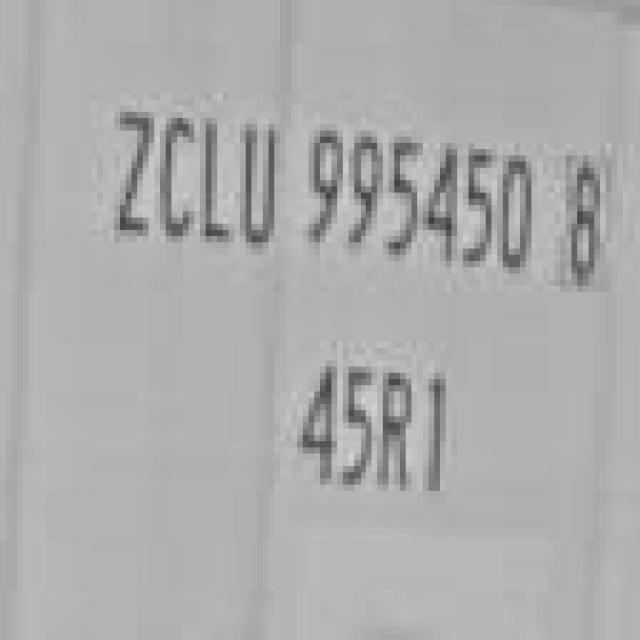dv: (554, 137, 618, 285)
owner: (90, 92, 287, 259)
serial: (296, 113, 542, 282)
size: (296, 340, 470, 502)
